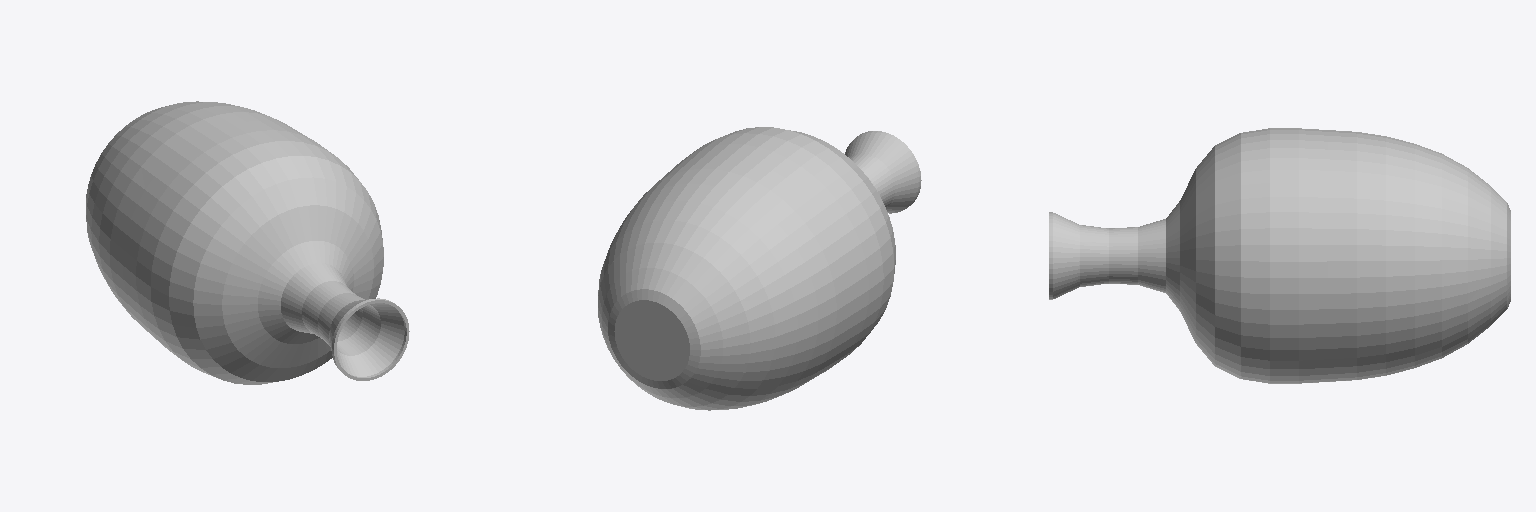
The model's file is model_scale.obj.
3 views of the same model, side by side, from view 1: azimuth 30°, elevation 25°; view 2: azimuth 150°, elevation 25°; view 3: azimuth 270°, elevation 25° (orthographic).
Visible parts, largest first — view 1: mesh1_mesh1-geometry; view 2: mesh1_mesh1-geometry; view 3: mesh1_mesh1-geometry.
Boxes of the visible parts, x1=… form: mesh1_mesh1-geometry: x1=86, y1=101, x2=409, y2=384; mesh1_mesh1-geometry: x1=598, y1=127, x2=921, y2=410; mesh1_mesh1-geometry: x1=1049, y1=128, x2=1510, y2=383.
Bounding box in the file's own units: 0.0746 × 0.0746 × 0.1351.